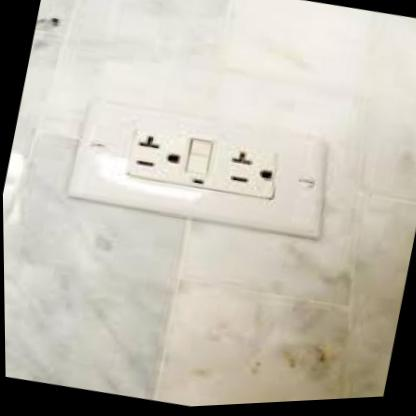OUTLET: (62, 83, 338, 252)
